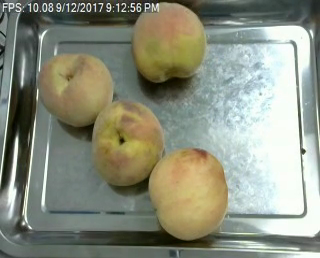Peach: (150, 147, 228, 240), (92, 99, 165, 187), (131, 2, 207, 82), (36, 50, 113, 126)
